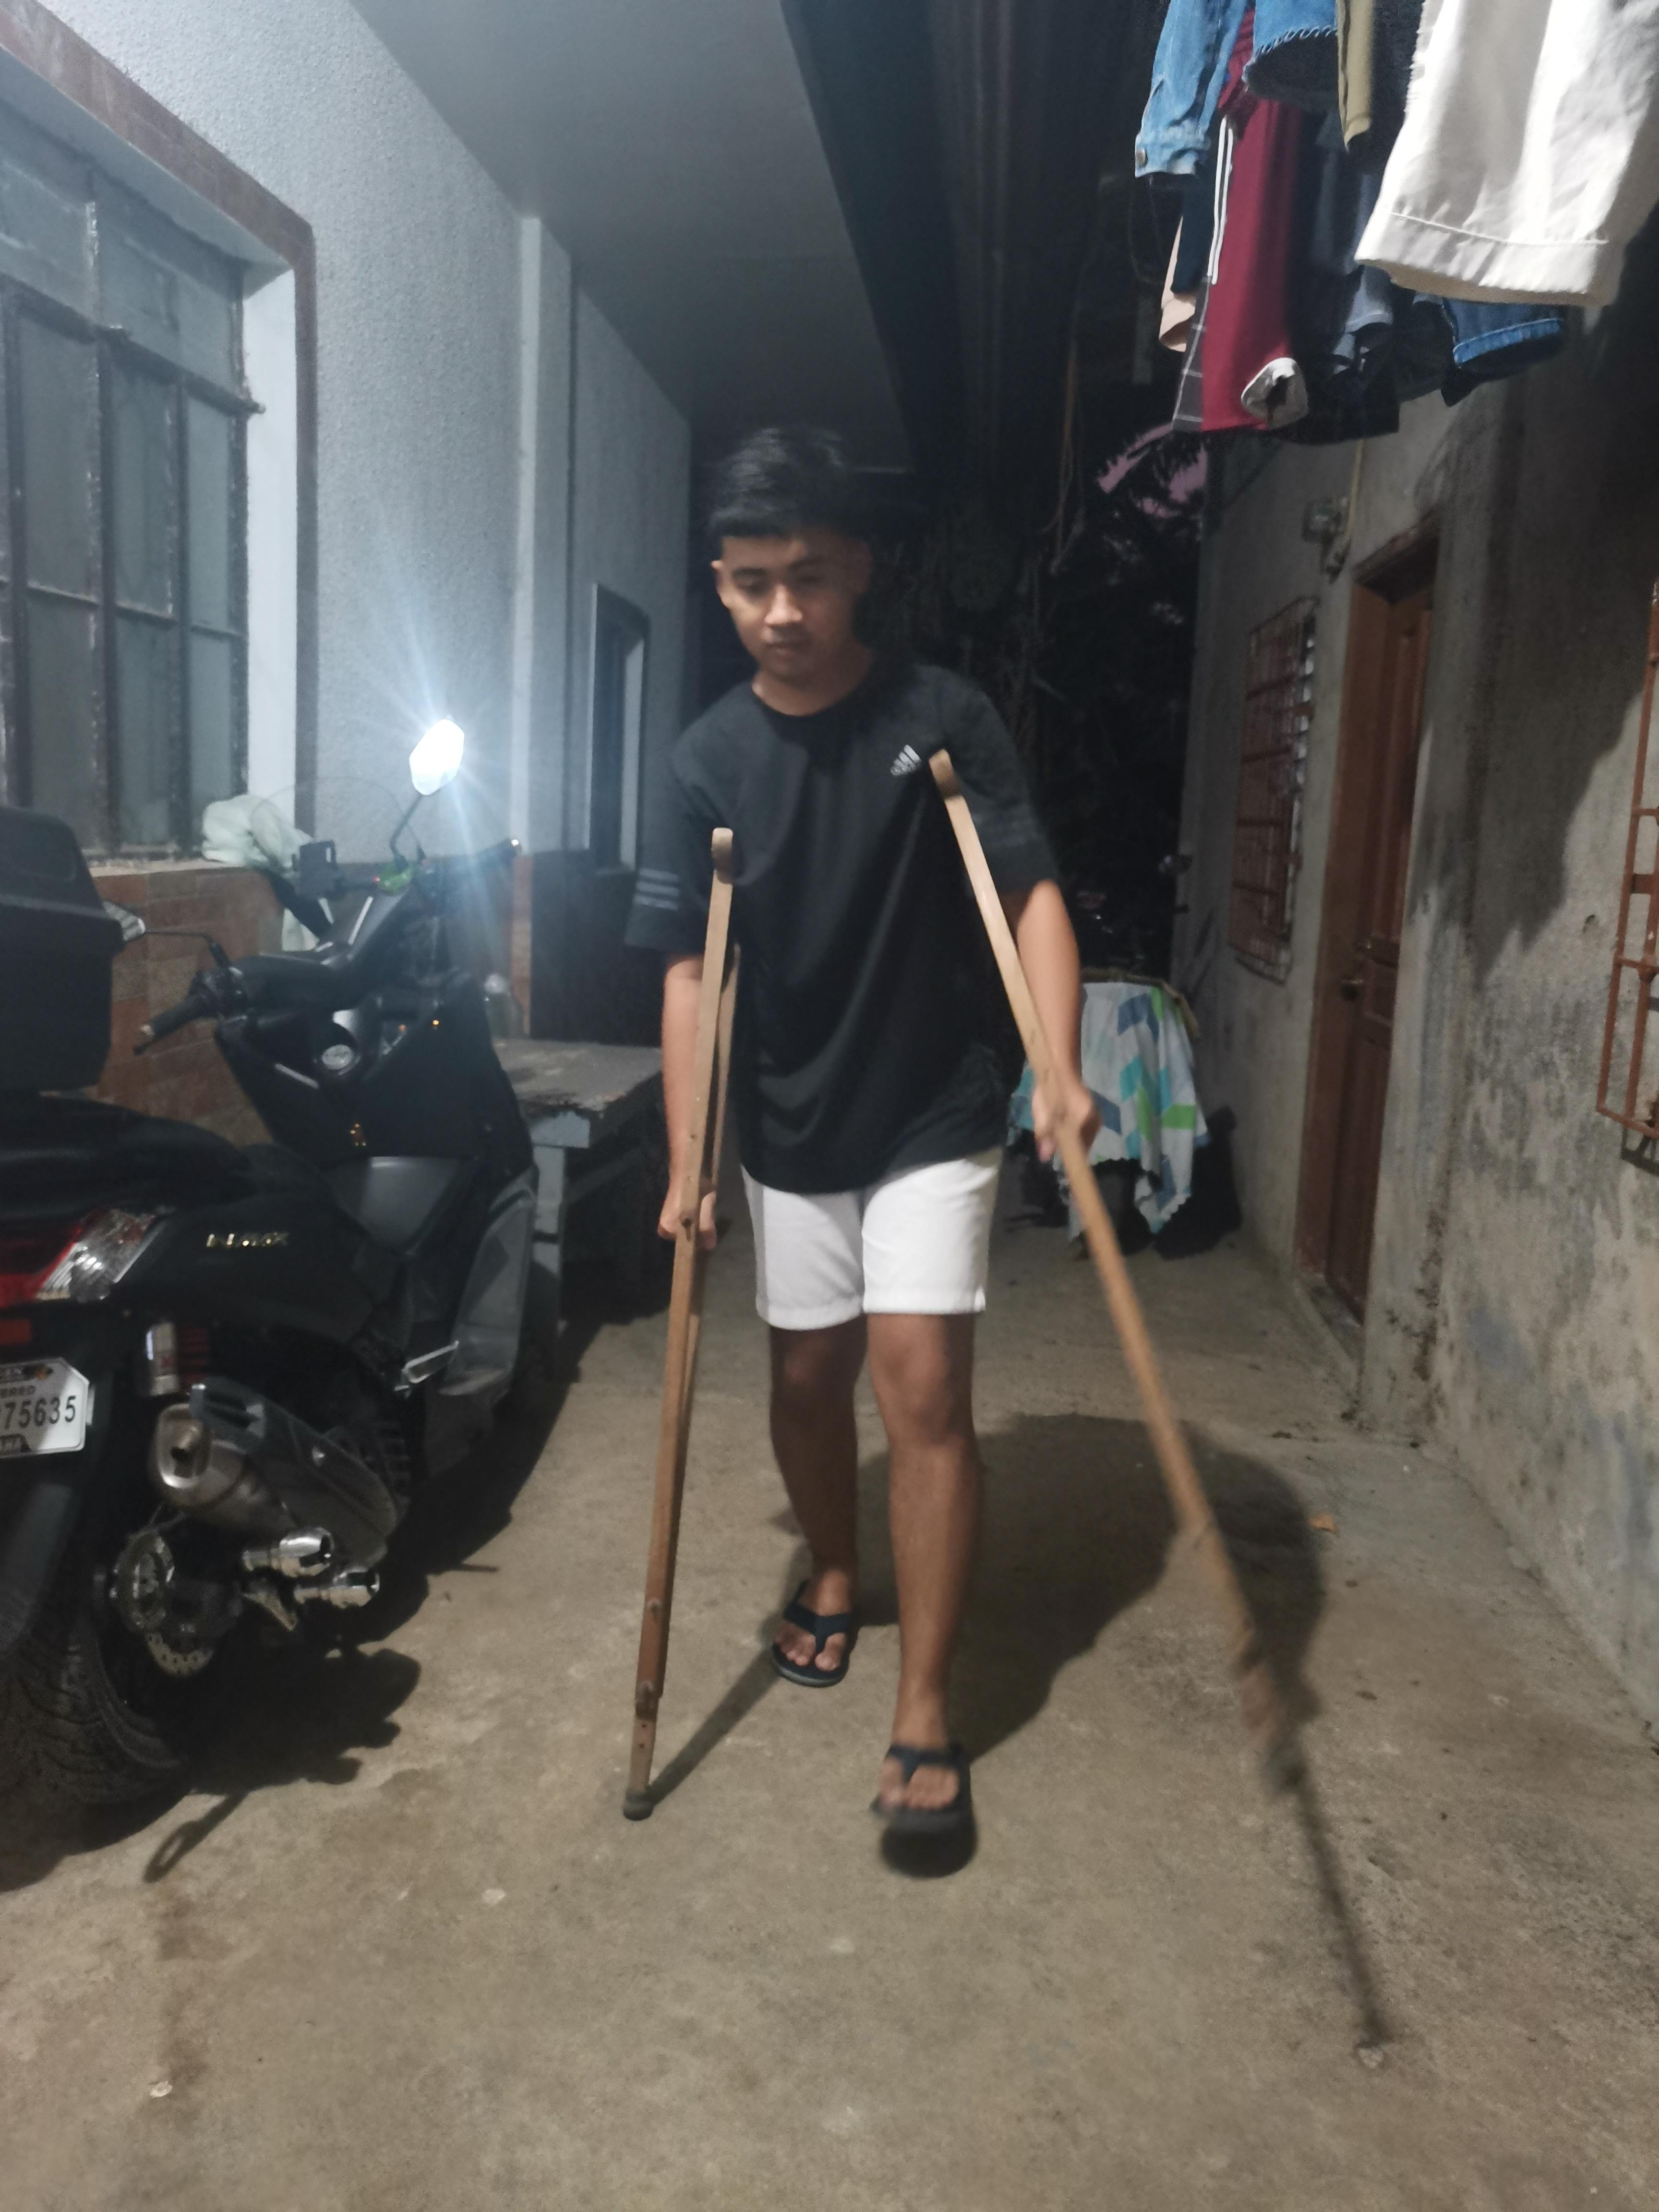crutches: (606, 380, 1317, 1858)
